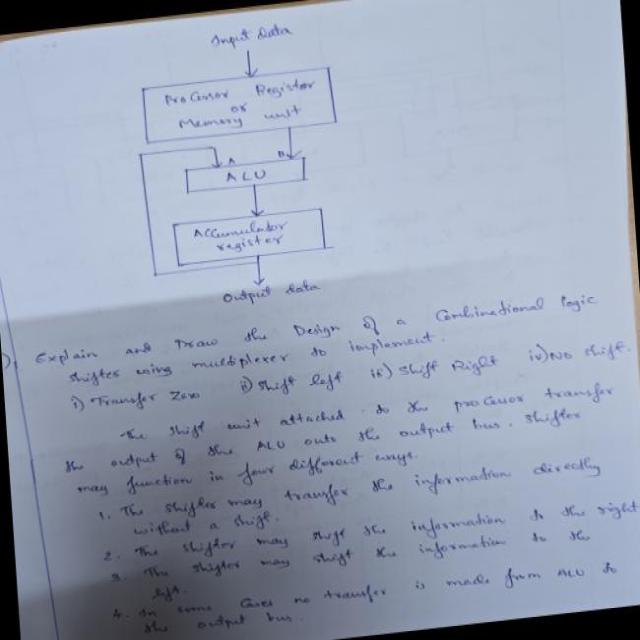Figure Detection - v3 Dataset Version2: (105, 3, 405, 321)
